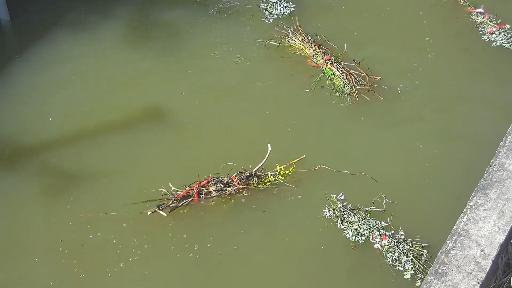twig: (122, 147, 376, 213), (276, 16, 407, 105), (321, 191, 450, 277), (457, 4, 512, 72), (237, 0, 288, 17)
